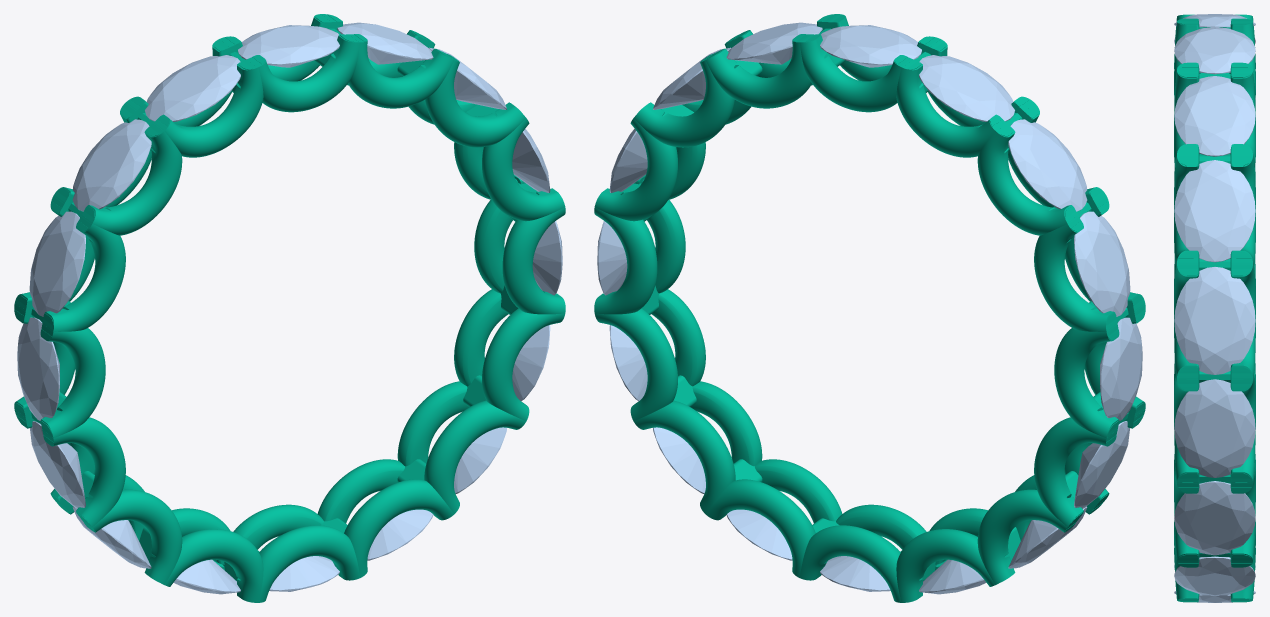
3 renders of one model, left to right at view 1: azimuth 30°, elevation 25°; view 2: azimuth 150°, elevation 25°; view 3: azimuth 270°, elevation 25°, orthographic. The views are drawn at different scales.
Parts seen in each view (by area): view 1: OVAL 4MM(1) (front).3dm, Diamond_Oval (×16); view 2: OVAL 4MM(1) (front).3dm, Diamond_Oval (×16); view 3: Diamond_Oval (×9), OVAL 4MM(1) (front).3dm.
Boxes of the visible parts, x1,y1,x2,y2 form: OVAL 4MM(1) (front).3dm: [14, 14, 565, 602]; Diamond_Oval (×16): [17, 22, 562, 594]; OVAL 4MM(1) (front).3dm: [594, 14, 1145, 602]; Diamond_Oval (×16): [597, 22, 1142, 594]; Diamond_Oval (×9): [1174, 14, 1255, 602]; OVAL 4MM(1) (front).3dm: [1174, 14, 1255, 602].
Bounding box in the file's own units: 2.81 × 2.81 × 0.3931.
